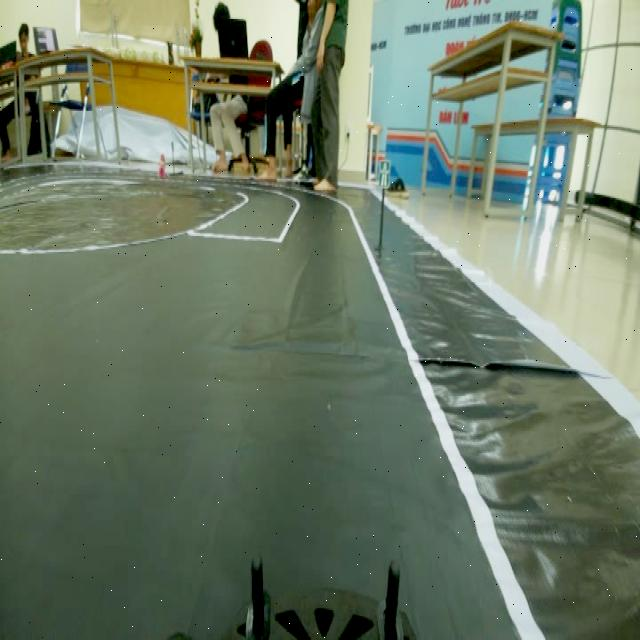highway_entry: (375, 152, 394, 201)
